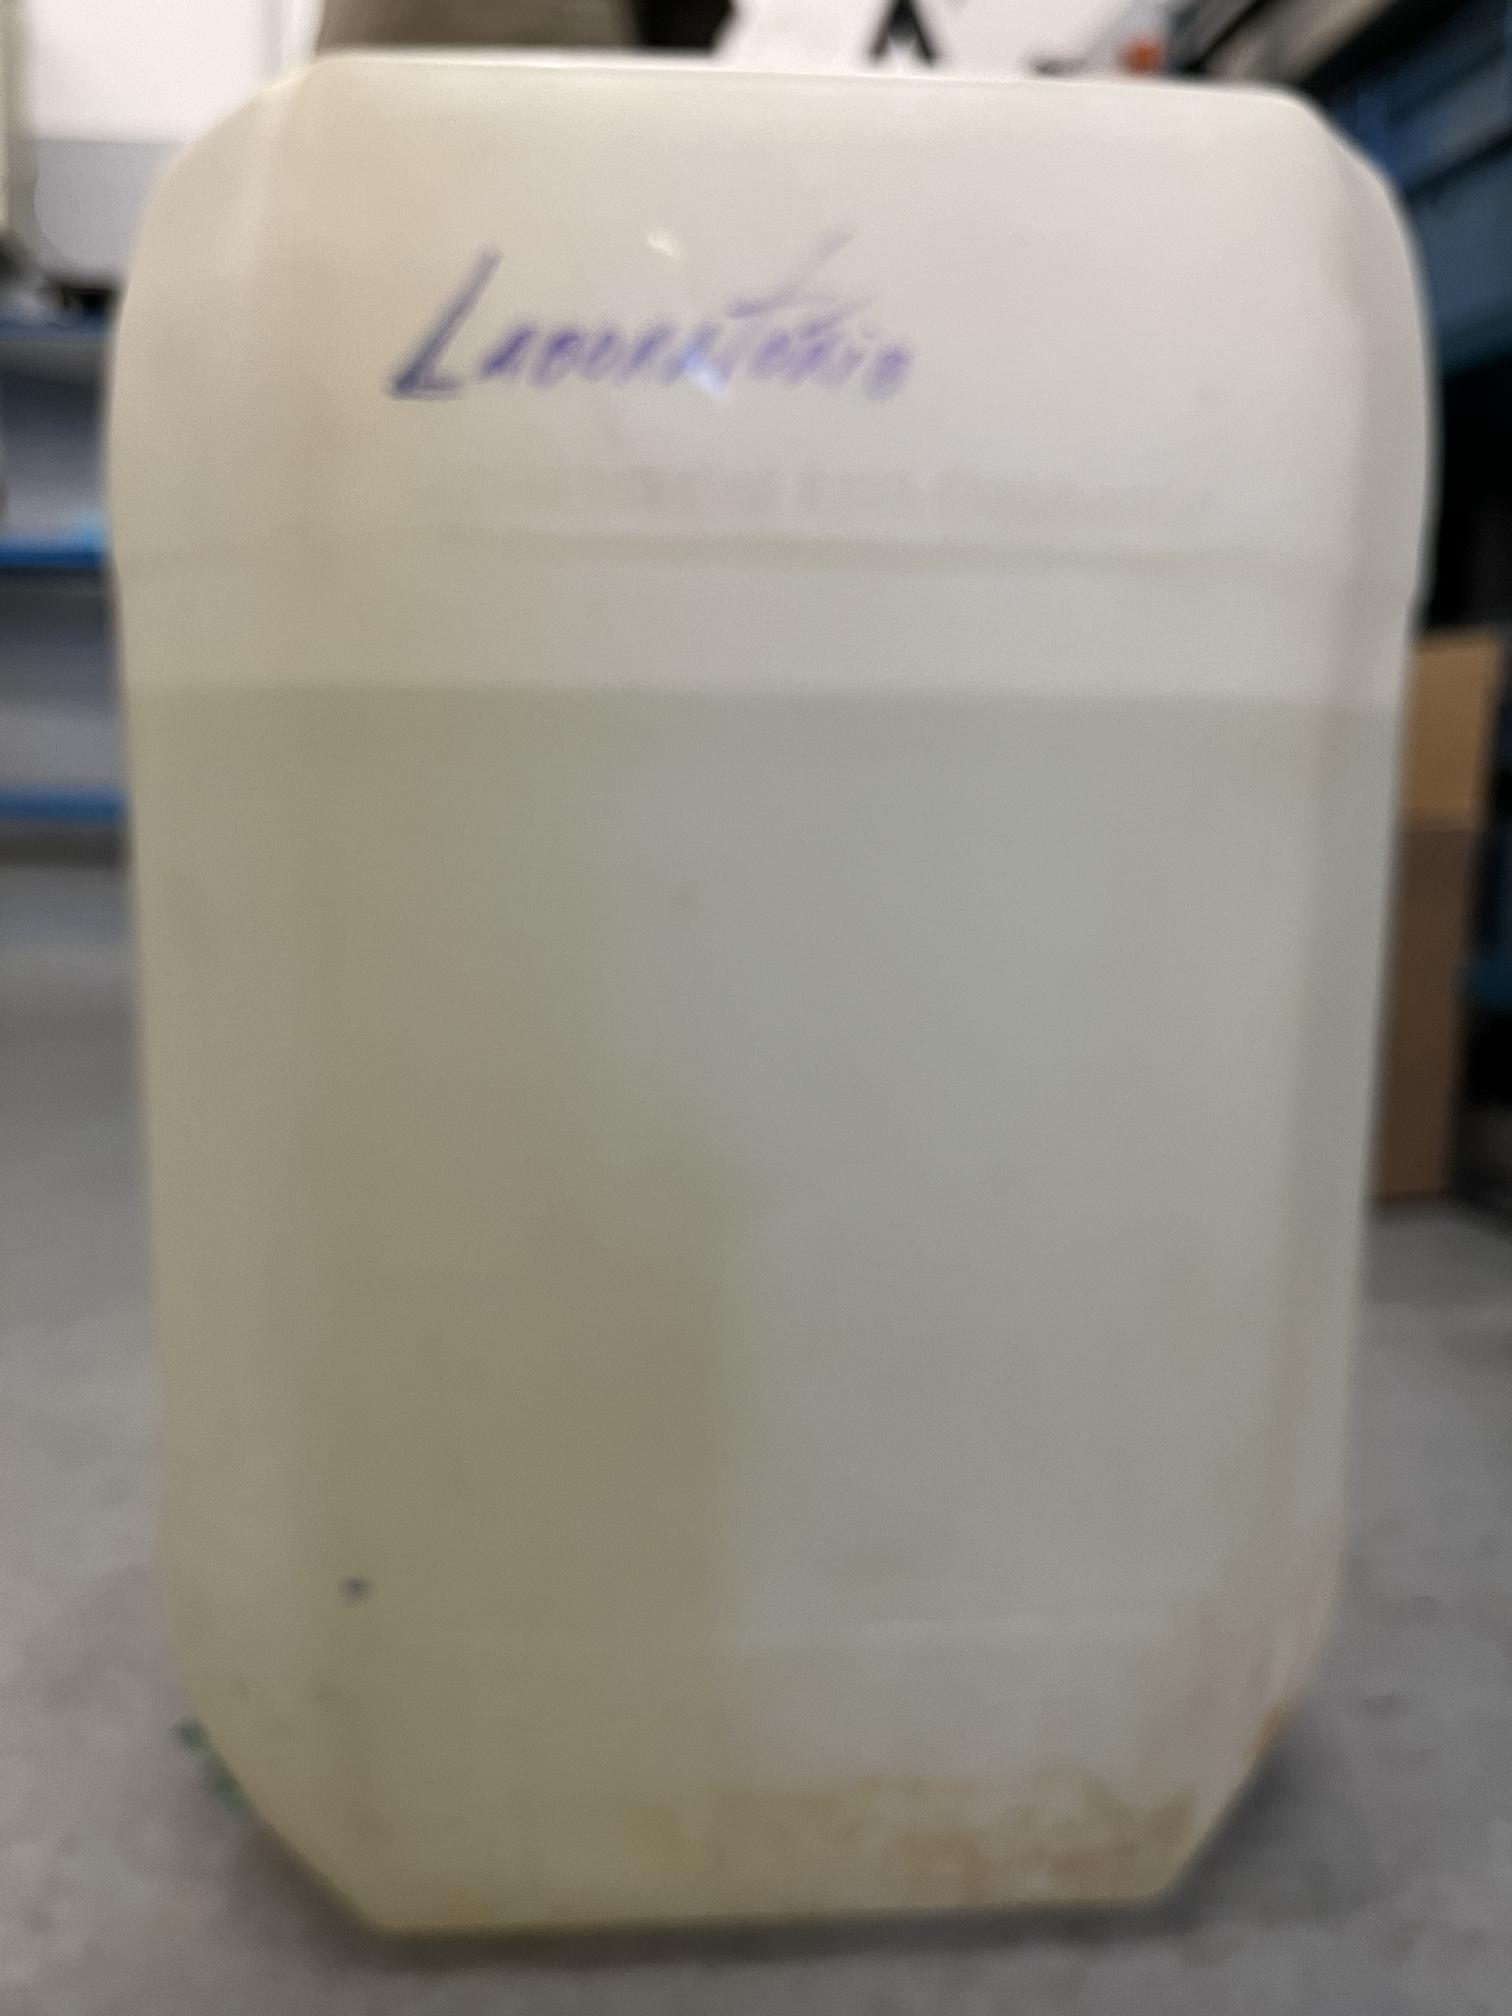Galao: (100, 44, 1460, 1979)
